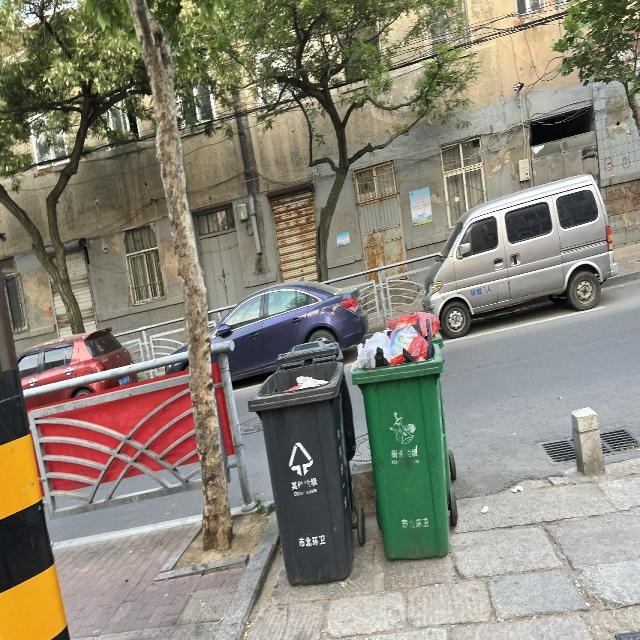overflow: (350, 310, 450, 561), (247, 353, 356, 583)
